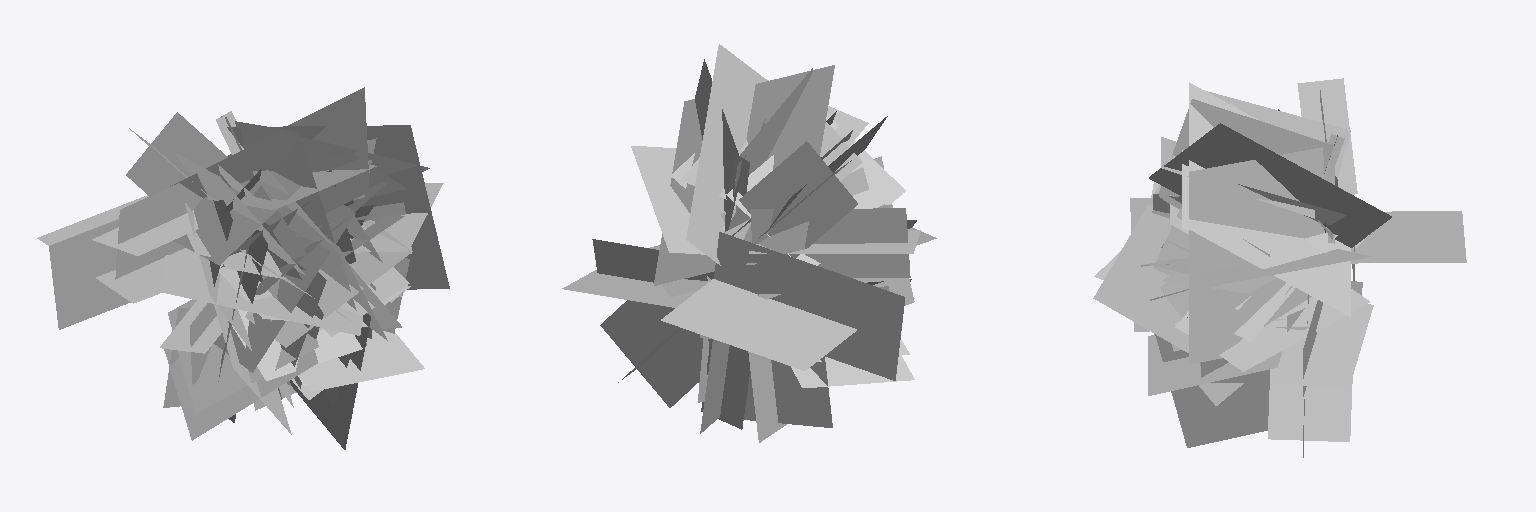
File: billboards_lod2.obj
3 views of the same model, side by side, from view 1: azimuth 30°, elevation 25°; view 2: azimuth 150°, elevation 25°; view 3: azimuth 270°, elevation 25° (orthographic).
Size of the model in its own units: 33.97 by 32.3 by 31.87.